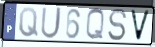6: (65, 7, 82, 40)
Q: (85, 7, 106, 42), (18, 6, 39, 39)
S: (107, 8, 128, 42)
U: (40, 6, 63, 41)
V: (129, 9, 151, 43)
